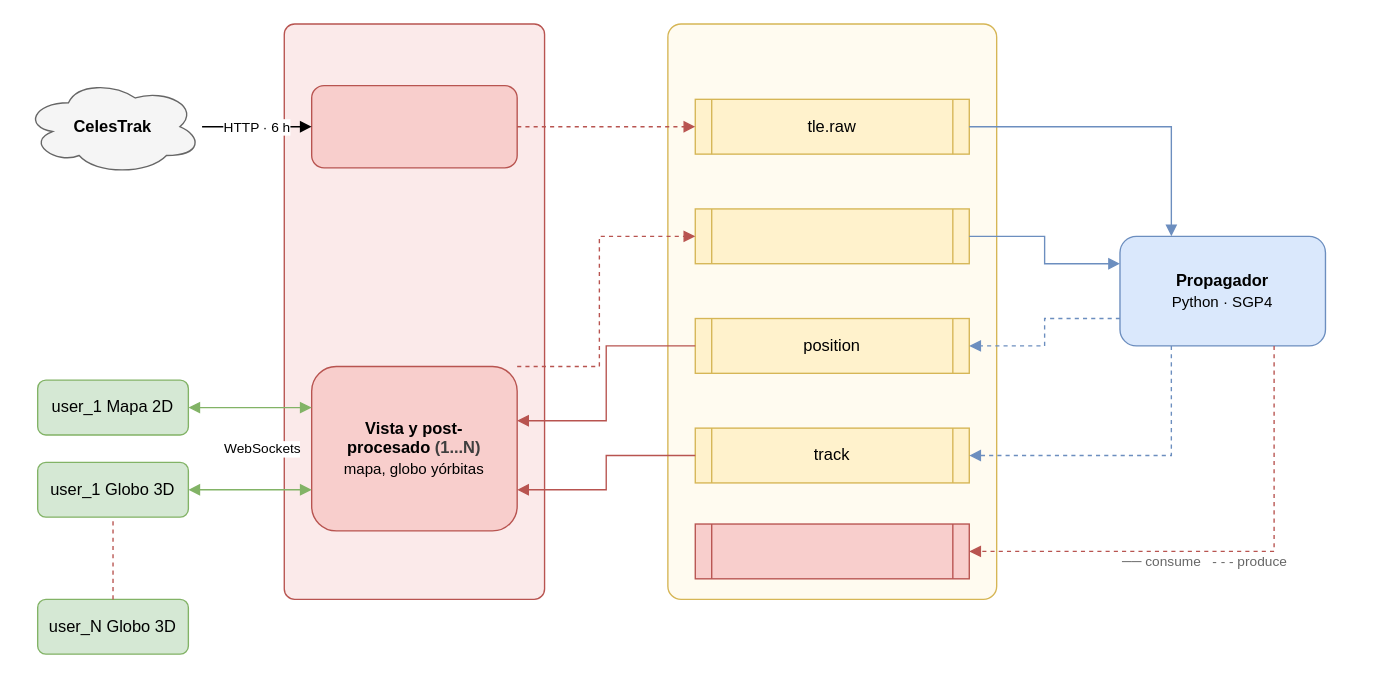
Image size: 1377x678. Some labels were removed from this diagram. The box of each missing label's shape, as (x1, y1, x2, y2) in pixels:
dlq: (694, 523, 969, 579)
Ingesta descarga órbitas: (310, 84, 517, 168)
Kafka 3 brokers · RF 3: (667, 23, 997, 599)
Node-RED: (283, 23, 545, 599)
track.request: (694, 208, 969, 264)
